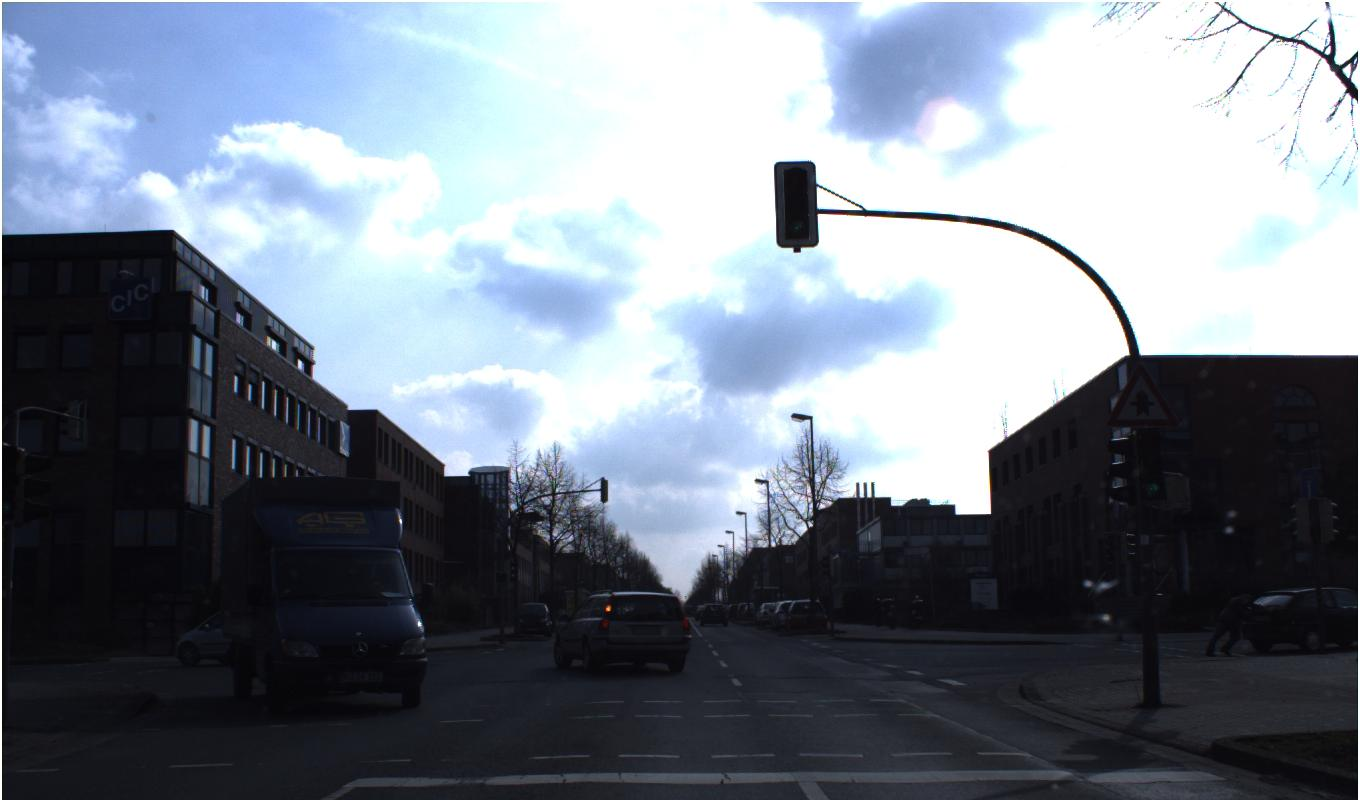danger: (1104, 359, 1181, 429)
